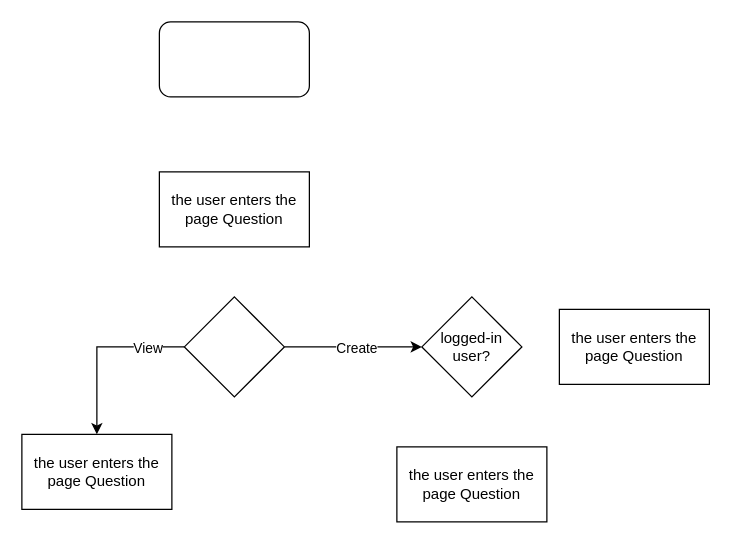
This 731x544 diagram has some shape labels left out. The centre of each missing label's shape, as x and y in pixels:
"inicio" goes at point 233,59.
"view or create?" goes at point 233,346.
